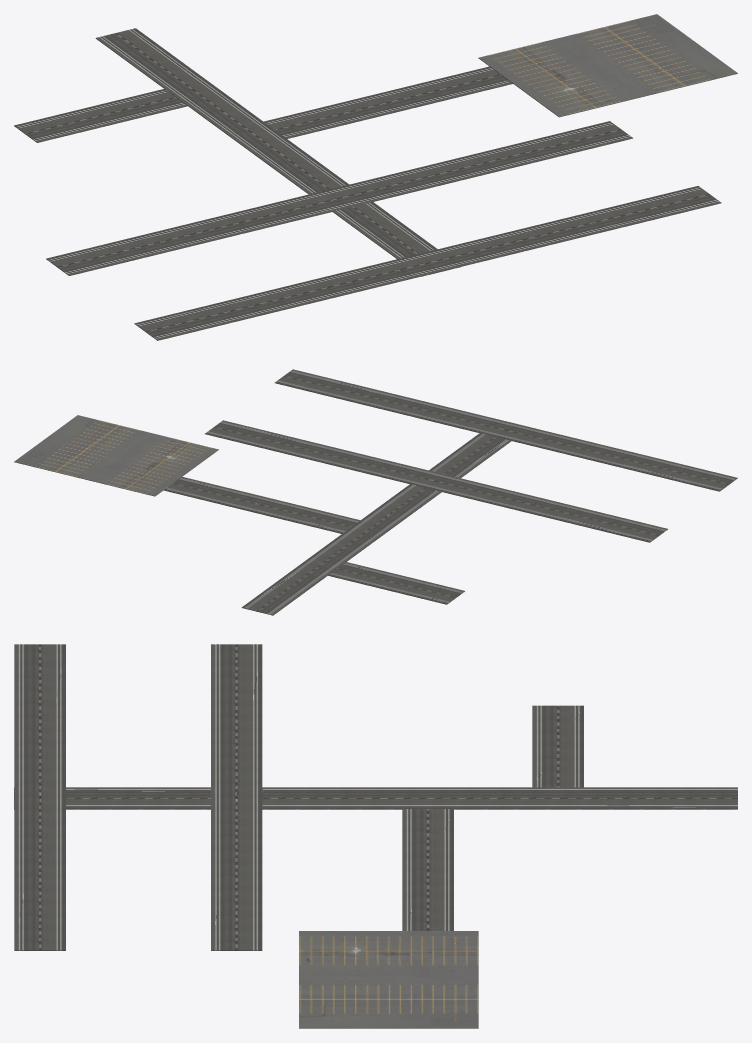
File: calle2.obj
3 renders of one model, top to bottom at view 1: azimuth 30°, elevation 25°; view 2: azimuth 150°, elevation 25°; view 3: azimuth 270°, elevation 25°, orthographic. The views are drawn at different scales.
Parts seen in each view (by area): view 1: Box007, Box003, Box002, Box001, Box005, Box006; view 2: Box007, Box003, Box002, Box001, Box005, Box006; view 3: Box007, Box002, Box003, Box001, Box005, Box006.
Boxes of the visible parts, x1,y1,x2,y2 form: Box007: [478, 14, 737, 117]; Box003: [46, 121, 633, 275]; Box002: [134, 186, 721, 340]; Box001: [95, 28, 461, 276]; Box005: [264, 66, 512, 138]; Box006: [14, 89, 187, 142]; Box007: [14, 415, 218, 496]; Box003: [205, 420, 667, 542]; Box002: [275, 369, 737, 491]; Box001: [241, 433, 511, 615]; Box005: [164, 477, 360, 533]; Box006: [328, 562, 464, 604]; Box007: [299, 931, 478, 1028]; Box002: [14, 644, 65, 950]; Box003: [211, 644, 262, 950]; Box001: [14, 787, 737, 809]; Box005: [402, 809, 453, 930]; Box006: [532, 705, 583, 787].
Size of the model in its own units: 3699 by 6.24 by 2944.
Materials: 2 (2 with a texture image).
